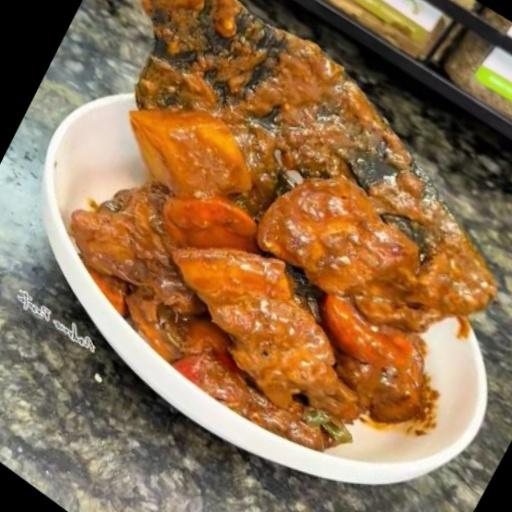pork caldereta: (84, 103, 488, 453)
